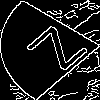Z: (25, 25, 100, 78)
